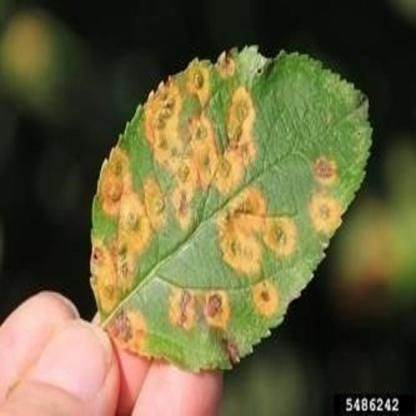apple rust leaf: (68, 20, 380, 370)
